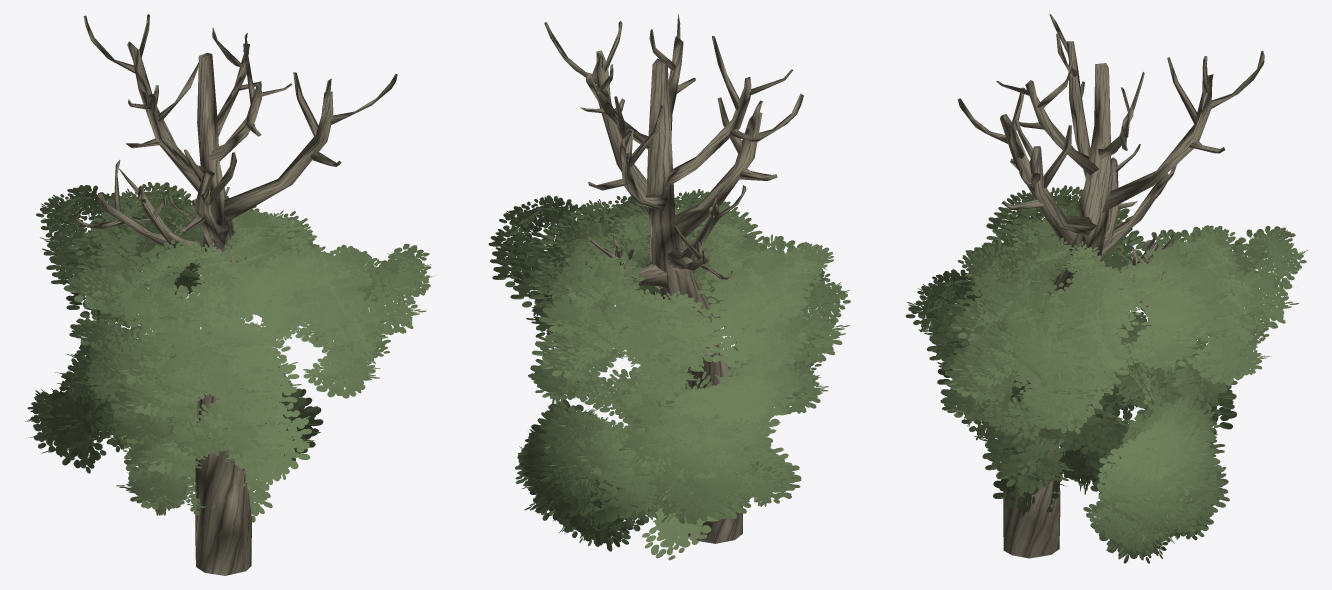
The model's file is leaning-canopy.glb.
3 views of the same model, side by side, from view 1: azimuth 30°, elevation 25°; view 2: azimuth 150°, elevation 25°; view 3: azimuth 270°, elevation 25° (orthographic). The views are drawn at different scales.
Parts seen in each view (by area): view 1: SM_Tree_leaning_canopy_Leaves_LOD0, SM_Tree_leaning_canopy_Bark; view 2: SM_Tree_leaning_canopy_Leaves_LOD0, SM_Tree_leaning_canopy_Bark; view 3: SM_Tree_leaning_canopy_Leaves_LOD0, SM_Tree_leaning_canopy_Bark.
Part boxes in pixels (<box>): SM_Tree_leaning_canopy_Leaves_LOD0: <box>25,182,435,522</box>; SM_Tree_leaning_canopy_Bark: <box>72,14,397,575</box>; SM_Tree_leaning_canopy_Leaves_LOD0: <box>488,189,850,560</box>; SM_Tree_leaning_canopy_Bark: <box>544,14,803,543</box>; SM_Tree_leaning_canopy_Leaves_LOD0: <box>905,185,1308,563</box>; SM_Tree_leaning_canopy_Bark: <box>957,14,1264,558</box>.
Size of what is drawn, in the model's own units: 6.84 by 8.9 by 6.76.
2 materials, 2 textured.
